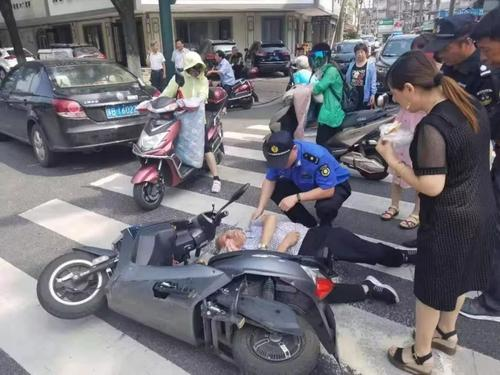10+: (123, 13, 494, 369)
down: (205, 206, 414, 302)
